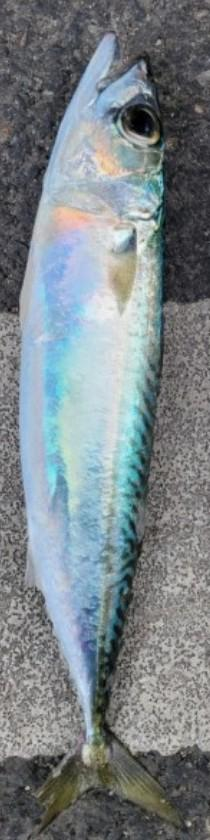fish: (17, 34, 181, 839)
